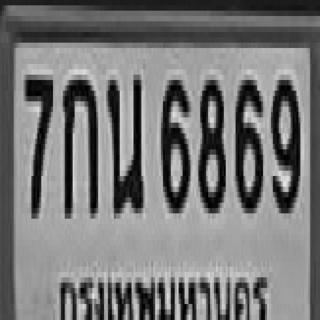A01: (61, 72, 96, 216)
A25: (106, 69, 141, 213)
N06: (159, 75, 188, 208), (234, 75, 261, 208)
N07: (24, 69, 51, 213)
N08: (196, 75, 224, 208)
N09: (269, 75, 298, 208)
P04: (56, 260, 271, 320)
